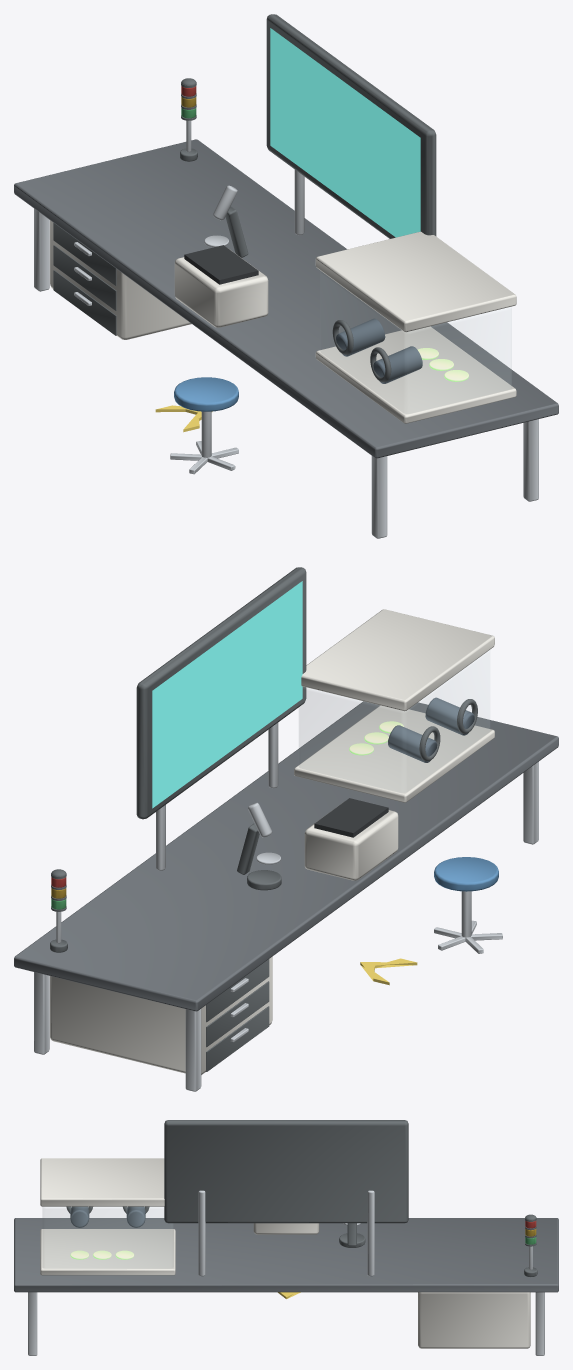
File: mesa_genetica.glb
3 renders of one model, top to bottom at view 1: azimuth 30°, elevation 25°; view 2: azimuth 150°, elevation 25°; view 3: azimuth 270°, elevation 25°, orthographic. The views are drawn at different scales.
Visible parts, largest first — view 1: tablero, pantalla, cabina, cabina_techo, cabina_base, pantalla_marco, tolva, cajonera, taburete_asiento, tolva_boca, pata-1-1, cajon1 (+7 smaller); view 2: tablero, pantalla, cabina, cabina_techo, cajonera, cabina_base, pantalla_marco, tolva, taburete_asiento, tolva_boca, pata-11, cajon0 (+8 smaller); view 3: tablero, pantalla_marco, cabina, cajonera, cabina_techo, cabina_base, tolva, pantalla_poste-1, pantalla_poste1, pata1-1, pata11, guante-1 (+1 smaller).
Boxes of the visible parts, box(x1,y1,x2,y2) form: tablero: box(14, 139, 558, 458); pantalla: box(270, 28, 420, 237); cabina: box(321, 272, 511, 413); cabina_techo: box(315, 231, 516, 332); cabina_base: box(315, 326, 516, 423); pantalla_marco: box(266, 14, 436, 238); tolva: box(174, 248, 268, 327); cajonera: box(50, 220, 191, 339); taburete_asiento: box(174, 377, 238, 411); tolva_boca: box(184, 245, 258, 284); pata-1-1: box(371, 456, 387, 538); cajon1: box(53, 245, 116, 310); tablero: box(14, 701, 558, 1011); pantalla: box(152, 581, 302, 808); cabina: box(299, 650, 489, 792); cabina_techo: box(301, 609, 494, 711); cajonera: box(50, 956, 272, 1074); cabina_base: box(294, 705, 494, 802); pantalla_marco: box(136, 567, 306, 819); tolva: box(304, 801, 398, 880); taburete_asiento: box(434, 857, 498, 891); tolva_boca: box(314, 798, 388, 837); pata-11: box(185, 1009, 201, 1091); cajon0: box(206, 1006, 269, 1071); tablero: box(14, 1218, 558, 1292); pantalla_marco: box(164, 1120, 408, 1223); cabina: box(43, 1207, 172, 1267); cajonera: box(418, 1292, 530, 1348); cabina_techo: box(40, 1158, 164, 1206); cabina_base: box(40, 1229, 175, 1275); tolva: box(253, 1223, 319, 1234); pantalla_poste-1: box(198, 1190, 205, 1276); pantalla_poste1: box(367, 1190, 374, 1276); pata1-1: box(28, 1292, 37, 1355); pata11: box(535, 1292, 544, 1355); guante-1: box(70, 1206, 89, 1227).
Size of the model in its own units: 1.16 by 1.35 by 2.9.
